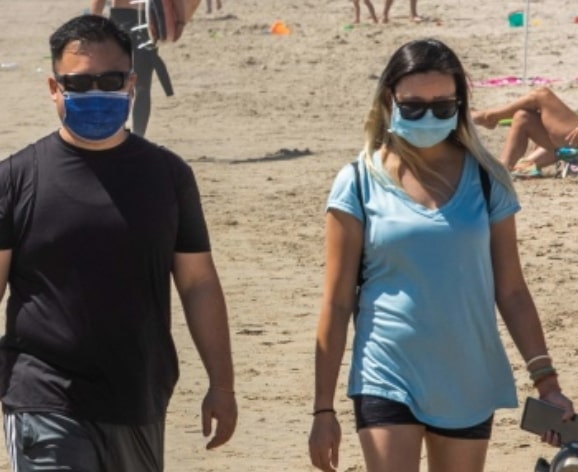Caution: (1, 15, 576, 472)
